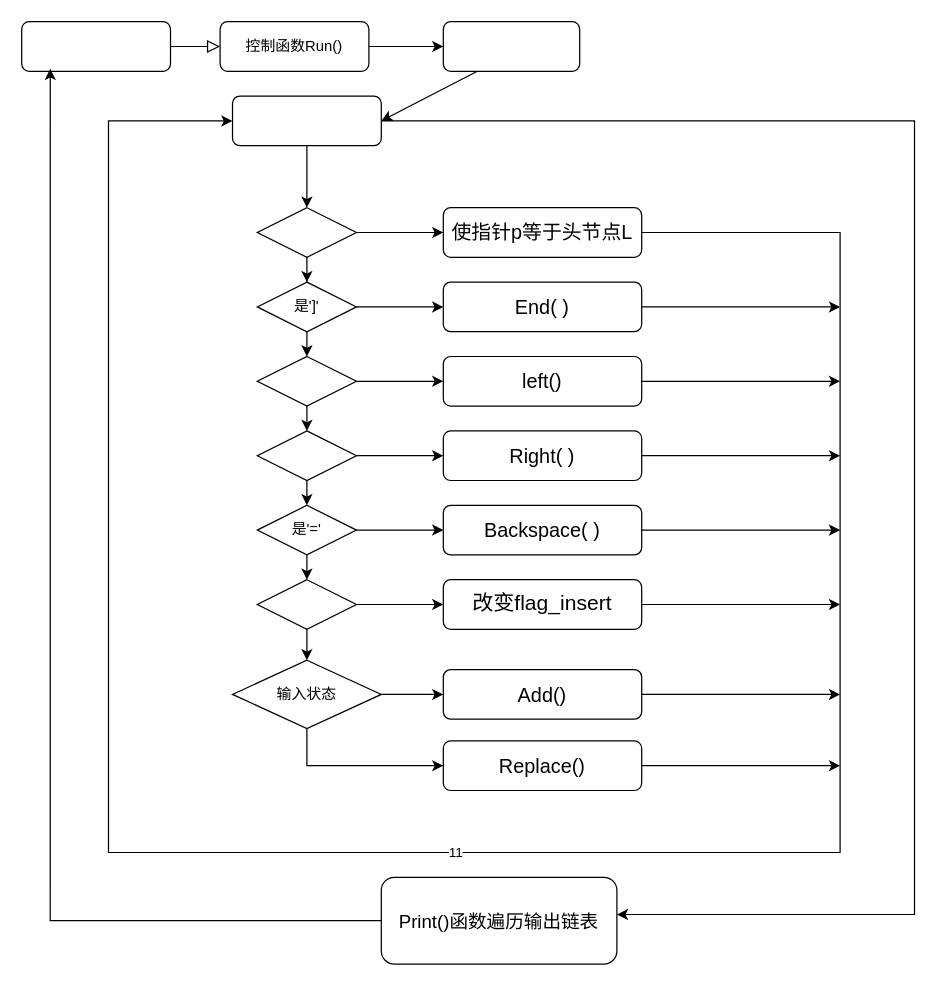
The diagram is 946 pixels wide and 986 high, and some of its shapes have lost their labels. The box of each missing label's shape, as (x1, y1, x2, y2) in pixels:
main()程序: (20, 20, 170, 71)
是'-': (256, 578, 356, 629)
是'[': (256, 206, 356, 257)
是'{': (256, 355, 356, 406)
是'}': (256, 430, 356, 480)
调用GetInput()函数获取用户输入: (442, 20, 580, 71)
遍历用户的输入: (231, 95, 381, 146)
